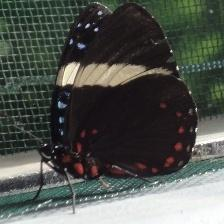butterfly: (40, 3, 197, 178)
